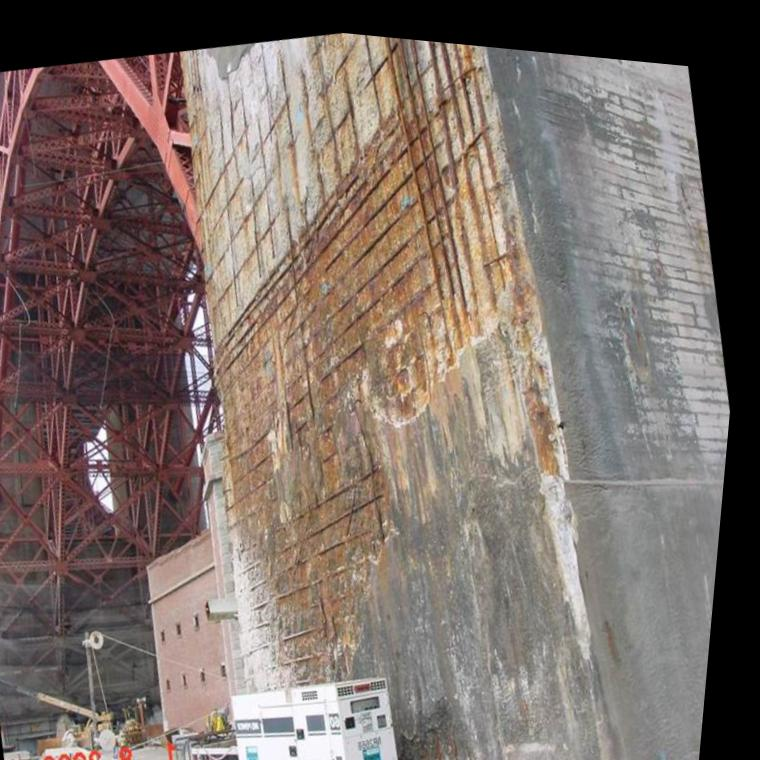damage: (184, 26, 597, 760)
